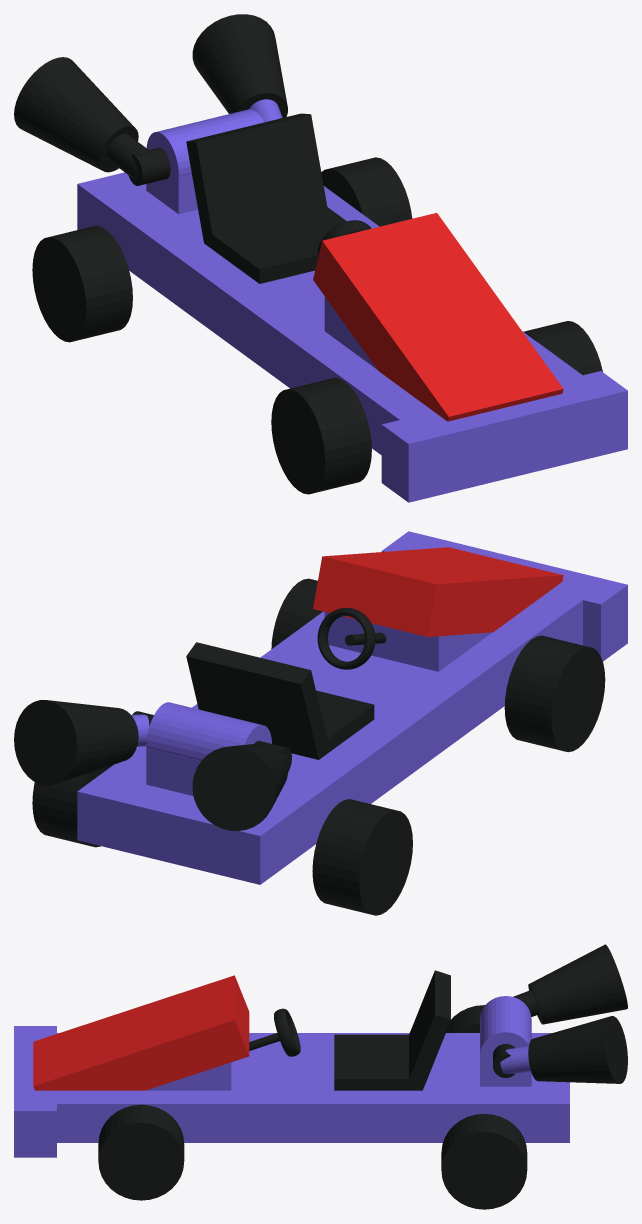
Rendered from kart.glb.
The picture shows the model from 3 angles, top to bottom: view 1: azimuth 30°, elevation 25°; view 2: azimuth 150°, elevation 25°; view 3: azimuth 270°, elevation 25°; orthographic projection. The views are drawn at different scales.
Visible parts, largest first — view 1: Seat; view 2: Seat; view 3: Seat.
Part boxes in pixels (left/top/right/bottom): Seat: left=14, top=14, right=627, bottom=502; Seat: left=14, top=531, right=627, bottom=915; Seat: left=14, top=944, right=627, bottom=1209.
Size of the model in its own units: 1.75 by 1.05 by 3.58.
